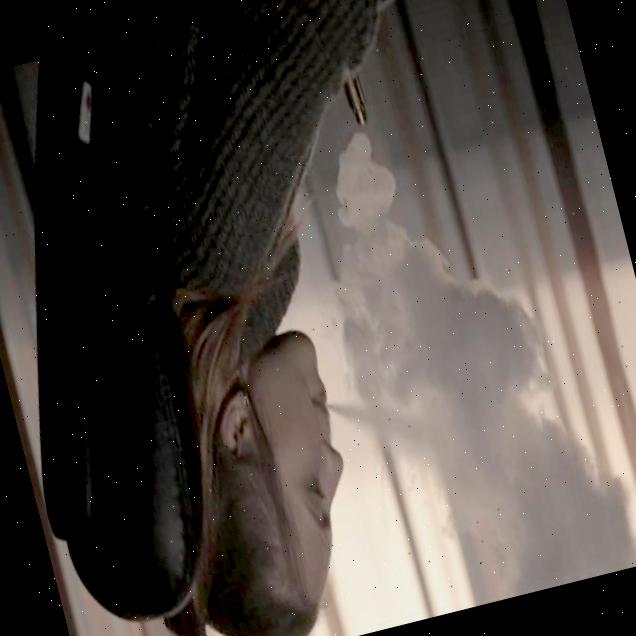smoke: (327, 130, 636, 599)
